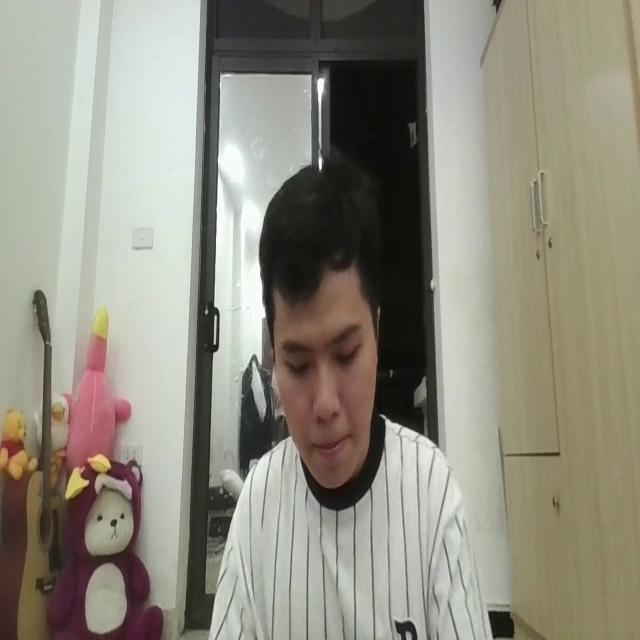student: (206, 151, 488, 640)
